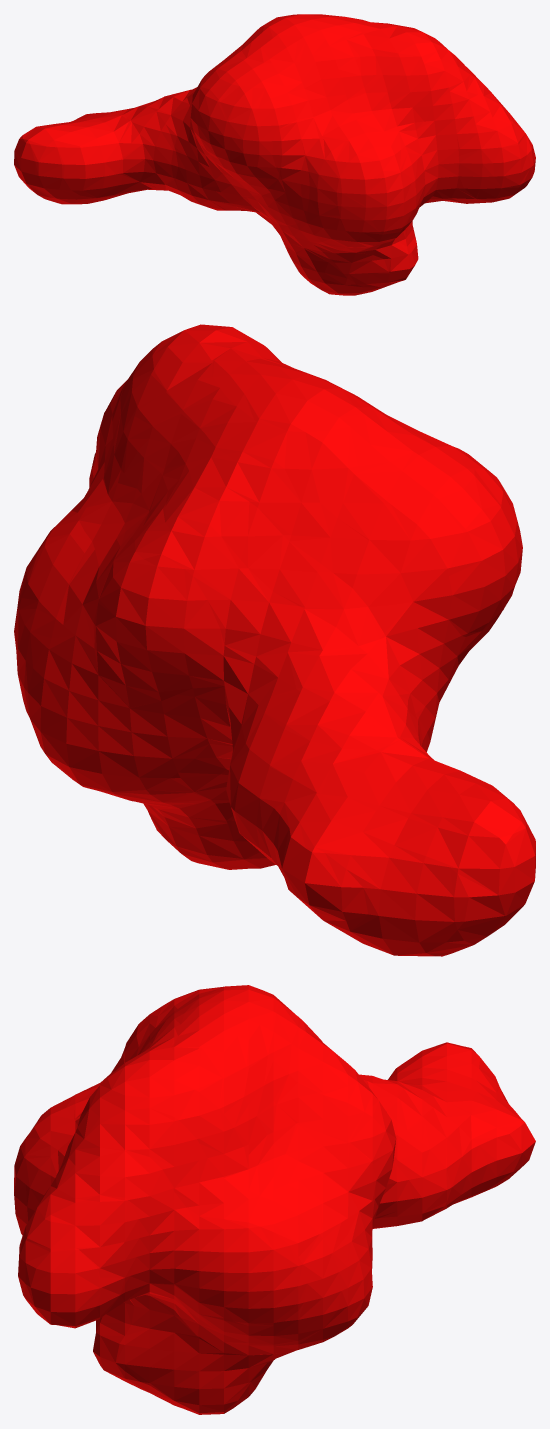
File: ycaR_coarse.dae
3 views of the same model, one above another, from view 1: azimuth 30°, elevation 25°; view 2: azimuth 150°, elevation 25°; view 3: azimuth 270°, elevation 25° (orthographic). The views are drawn at different scales.
Visible parts, largest first — view 1: ycaR; view 2: ycaR; view 3: ycaR.
Part boxes in pixels (left/top/right/bottom): ycaR: left=14, top=14, right=535, bottom=295; ycaR: left=14, top=324, right=535, bottom=956; ycaR: left=14, top=985, right=535, bottom=1414.
Bounding box in the file's own units: 44.65 × 31.27 × 38.9.
